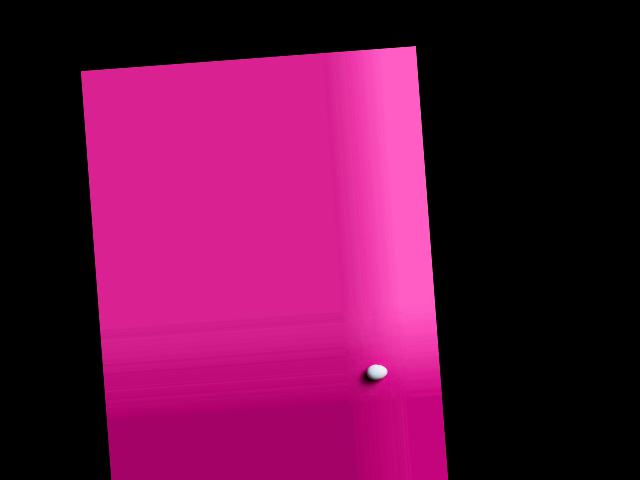egg: (365, 363, 387, 380)
